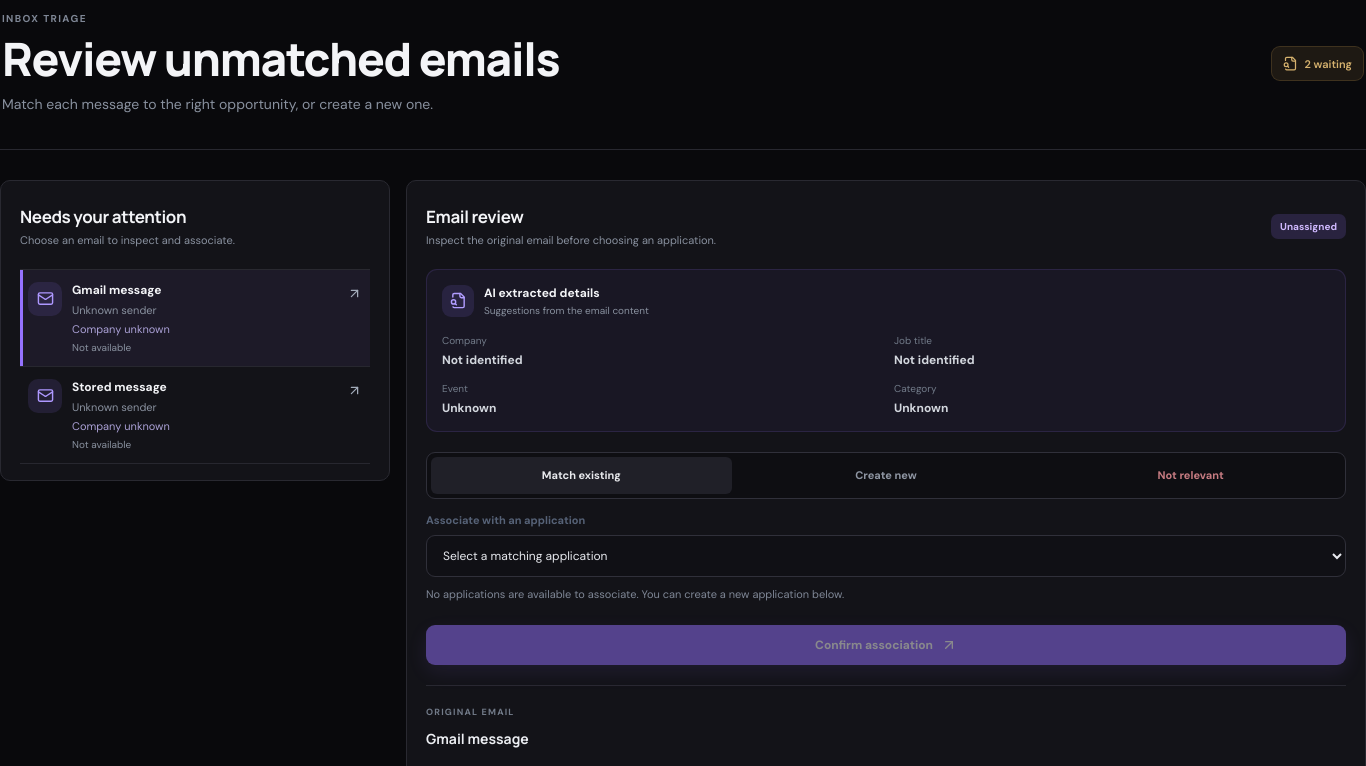
Scenario: review page Gmail navigation › uses the review link without fetching the body, then fetches the stored fallback for an invalid link
The width and height of the screenshot is (1366, 766).
Click the button "Stored message Unknown sender Company unknown Not available". click: click(45, 396)
box: x1=20 y1=367 x2=370 y2=464
(page scrolled)
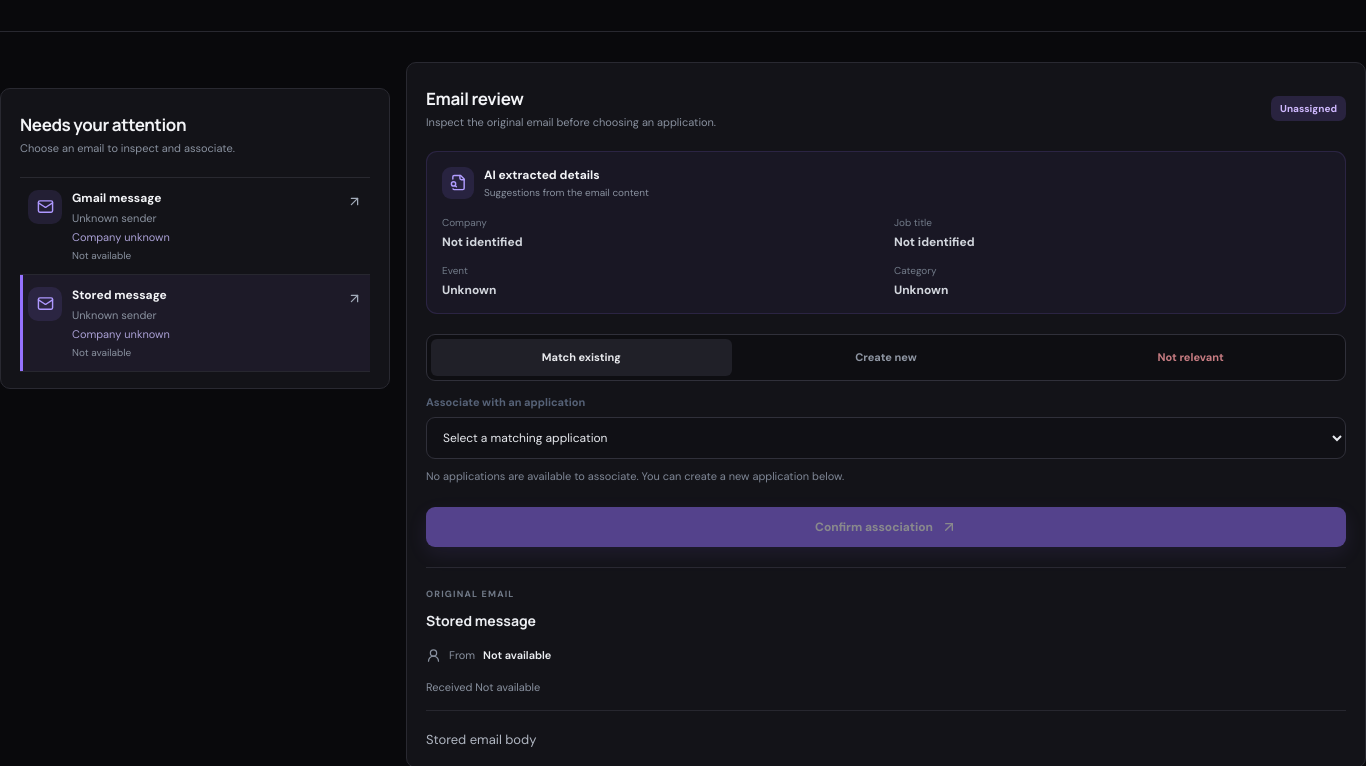
Check: the text "Stored email body" is shown, box x1=426 y1=731 x2=536 y2=748
